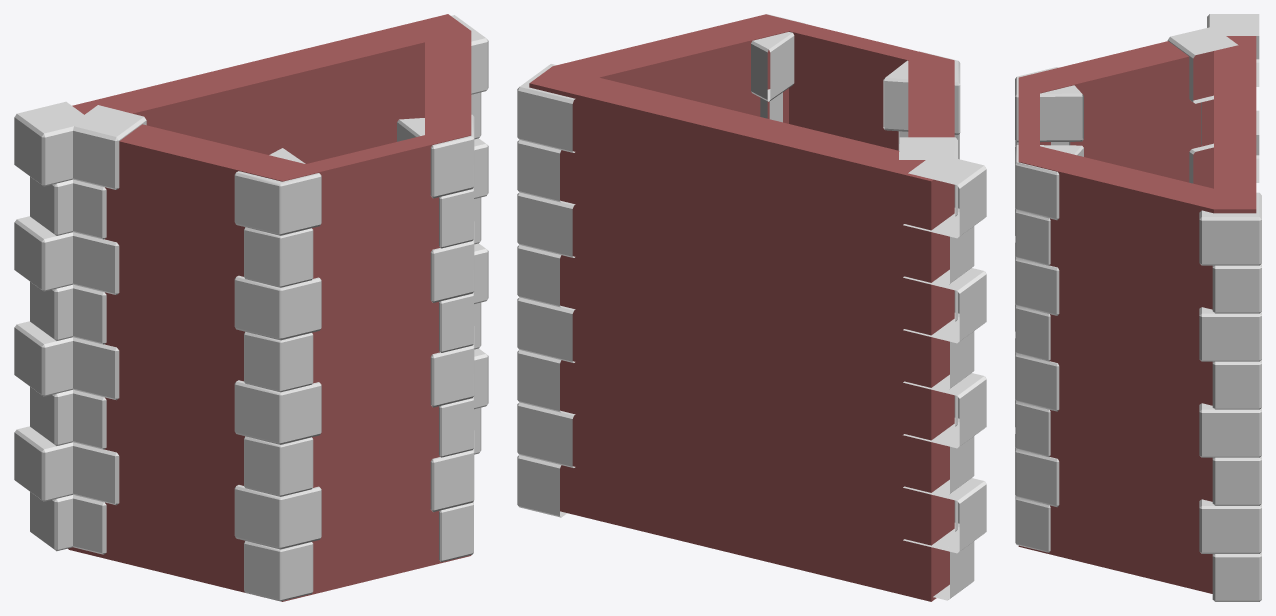
Rendered from portrudingWallFBX.fbx.
3 views of the same model, side by side, from view 1: azimuth 30°, elevation 25°; view 2: azimuth 150°, elevation 25°; view 3: azimuth 270°, elevation 25° (orthographic). The views are drawn at different scales.
Visible parts, largest first — view 1: DubbleCroner4; view 2: DubbleCroner4; view 3: DubbleCroner4.
Part boxes in pixels (x1,y1,x2,y2): DubbleCroner4: (14, 14, 488, 601); DubbleCroner4: (517, 14, 986, 601); DubbleCroner4: (1015, 14, 1261, 601).
Size of the model in its own units: 1101 by 1020 by 581.
